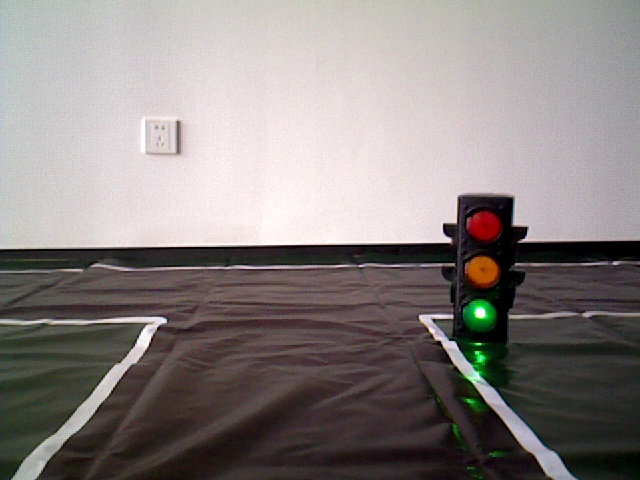green: (458, 207, 507, 336)
